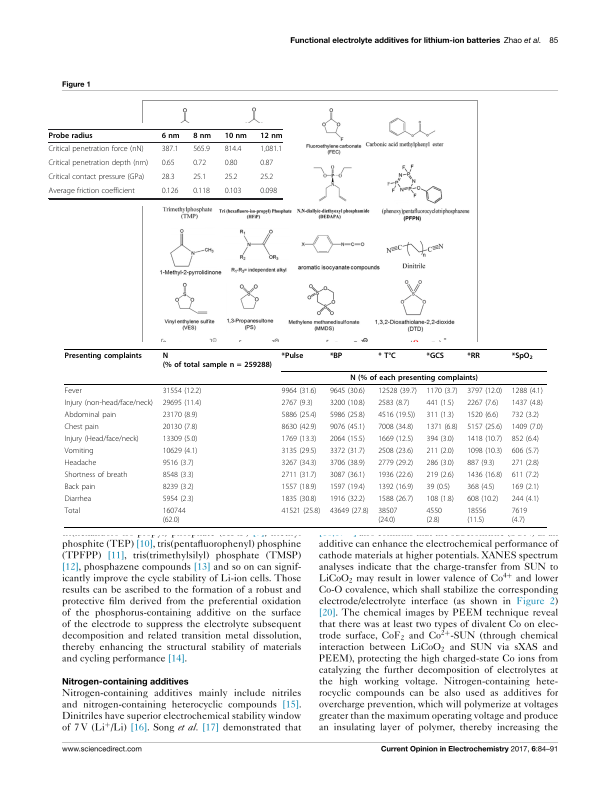borderless: (63, 347, 547, 527), (47, 128, 282, 198)
cell: (162, 351, 273, 369), (349, 373, 479, 383), (48, 159, 149, 168), (64, 398, 154, 408), (48, 173, 145, 182), (48, 145, 144, 154), (48, 187, 136, 196), (64, 434, 140, 444), (64, 351, 143, 360), (64, 470, 128, 480), (64, 410, 117, 420), (162, 506, 186, 524), (377, 386, 418, 396), (162, 386, 202, 396), (162, 398, 202, 408), (377, 410, 416, 420), (377, 506, 398, 524), (466, 506, 487, 524), (329, 386, 366, 396), (466, 386, 503, 396), (329, 398, 366, 408), (329, 410, 366, 420), (329, 422, 366, 432), (377, 422, 414, 432), (466, 422, 503, 432), (329, 434, 366, 444), (377, 434, 414, 444), (466, 434, 503, 444), (329, 446, 366, 456), (377, 446, 414, 456), (466, 446, 503, 456), (329, 458, 366, 468), (377, 458, 414, 468), (329, 470, 366, 480), (377, 470, 414, 480), (466, 470, 503, 480), (48, 132, 94, 140), (281, 386, 317, 396), (162, 410, 198, 420), (281, 410, 317, 420), (64, 422, 100, 432), (162, 422, 198, 432), (281, 422, 317, 432), (162, 434, 198, 444), (281, 434, 317, 444), (162, 446, 198, 456), (281, 446, 317, 456), (281, 458, 317, 468), (281, 470, 317, 480), (281, 506, 321, 515), (329, 506, 369, 515), (329, 482, 366, 491), (377, 482, 414, 491), (329, 494, 366, 503), (377, 494, 414, 503), (425, 386, 458, 396), (511, 386, 544, 396), (281, 398, 314, 408), (377, 398, 410, 408), (466, 398, 499, 408), (511, 398, 544, 408), (466, 410, 499, 420), (425, 422, 458, 432), (511, 422, 544, 432), (64, 458, 97, 468), (162, 458, 195, 468), (162, 470, 195, 480), (281, 482, 317, 491), (281, 494, 317, 503), (425, 506, 443, 524), (511, 506, 528, 524), (425, 398, 455, 408), (425, 410, 455, 420), (425, 434, 455, 444), (64, 446, 94, 456), (425, 446, 455, 456), (425, 458, 455, 468), (425, 470, 455, 480), (162, 482, 195, 491), (162, 494, 195, 503), (466, 494, 499, 503), (511, 410, 540, 420), (511, 434, 540, 444), (511, 446, 540, 456), (466, 458, 495, 468), (511, 458, 540, 468), (511, 470, 540, 480), (64, 482, 96, 491), (425, 494, 455, 503), (466, 482, 495, 491), (511, 482, 540, 491), (511, 494, 540, 503), (64, 494, 92, 503), (425, 482, 451, 491), (511, 351, 534, 361), (259, 145, 283, 154), (281, 351, 304, 360), (224, 132, 248, 140), (259, 132, 283, 140), (64, 386, 83, 396), (377, 351, 397, 360), (425, 351, 445, 360), (192, 145, 211, 154), (192, 187, 211, 196), (259, 187, 278, 196), (161, 145, 179, 154), (224, 145, 242, 154), (161, 187, 179, 196), (224, 187, 242, 196), (192, 132, 212, 140), (64, 506, 81, 515), (161, 132, 180, 140), (192, 159, 207, 168), (259, 159, 274, 168), (192, 173, 207, 182), (259, 173, 274, 182), (466, 351, 481, 360), (161, 159, 175, 168), (224, 159, 238, 168), (161, 173, 175, 182), (224, 173, 238, 182), (329, 351, 343, 360)
